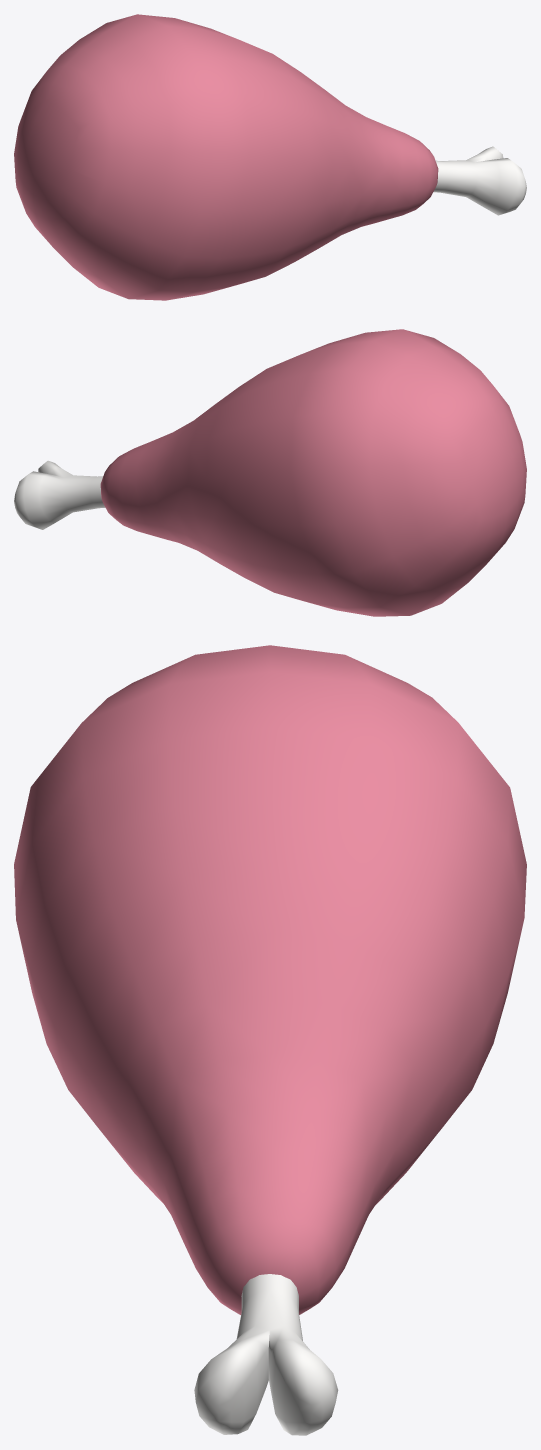
The model's file is Meet_full.glb.
The picture shows the model from 3 angles, top to bottom: view 1: azimuth 30°, elevation 25°; view 2: azimuth 150°, elevation 25°; view 3: azimuth 270°, elevation 25°; orthographic projection. The views are drawn at different scales.
Visible parts, largest first — view 1: Ham_1; view 2: Ham_1; view 3: Ham_1.
Part boxes in pixels (left/top/right/bottom): Ham_1: left=14, top=14, right=526, bottom=300; Ham_1: left=14, top=329, right=526, bottom=616; Ham_1: left=14, top=645, right=526, bottom=1435.
Size of the model in its own units: 0.7625 by 0.3956 by 0.3877.
Materials: 1 (1 with a texture image).
